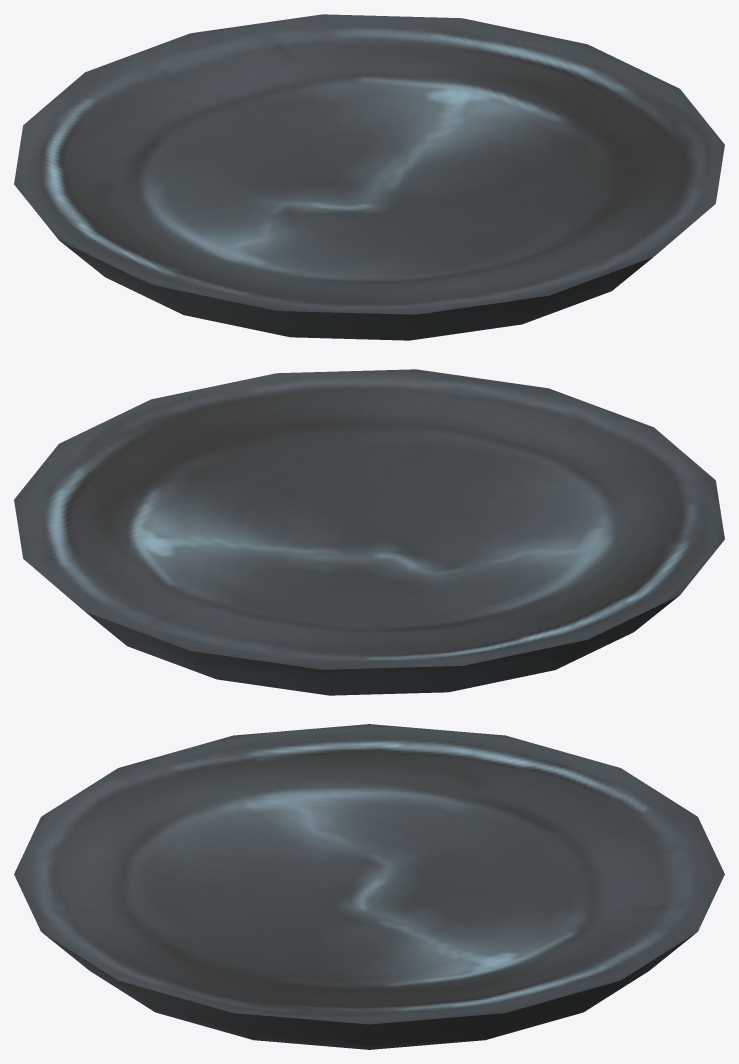
The model's file is plate_metal2.fbx.
3 views of the same model, one above another, from view 1: azimuth 30°, elevation 25°; view 2: azimuth 150°, elevation 25°; view 3: azimuth 270°, elevation 25° (orthographic).
Parts seen in each view (by area): view 1: plate_metal2; view 2: plate_metal2; view 3: plate_metal2.
Part boxes in pixels (x1,y1,x2,y2): plate_metal2: (14,14,724,340); plate_metal2: (14,369,724,695); plate_metal2: (14,724,724,1049).
Bounding box in the file's own units: 52.25 × 3.87 × 52.25.
